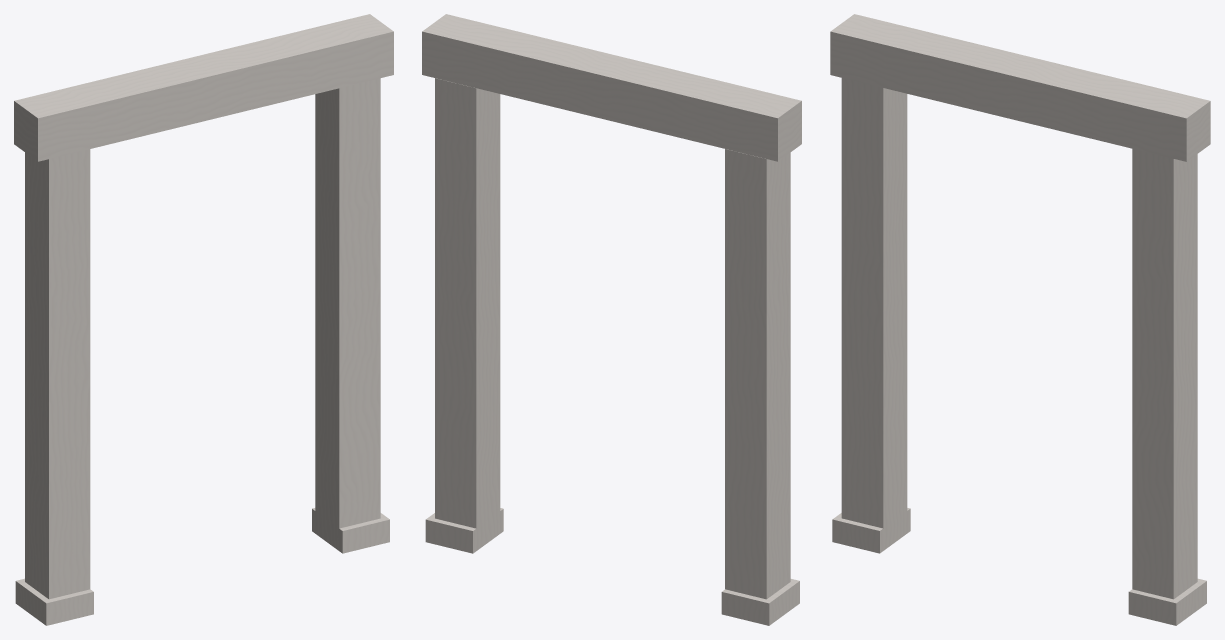
File: Door_Frame_04.FBX
The picture shows the model from 3 angles, left to right: view 1: azimuth 30°, elevation 25°; view 2: azimuth 150°, elevation 25°; view 3: azimuth 330°, elevation 25°; orthographic projection.
Parts seen in each view (by area): view 1: DoorFrame_02; view 2: DoorFrame_02; view 3: DoorFrame_02.
Boxes of the visible parts, left/top/right/bottom form: DoorFrame_02: left=14, top=14, right=393, bottom=625; DoorFrame_02: left=422, top=14, right=801, bottom=625; DoorFrame_02: left=830, top=14, right=1210, bottom=625.
Size of the model in its own units: 11811 by 16063 by 1768.
